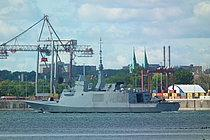MIL_Ship: (23, 74, 181, 113)
